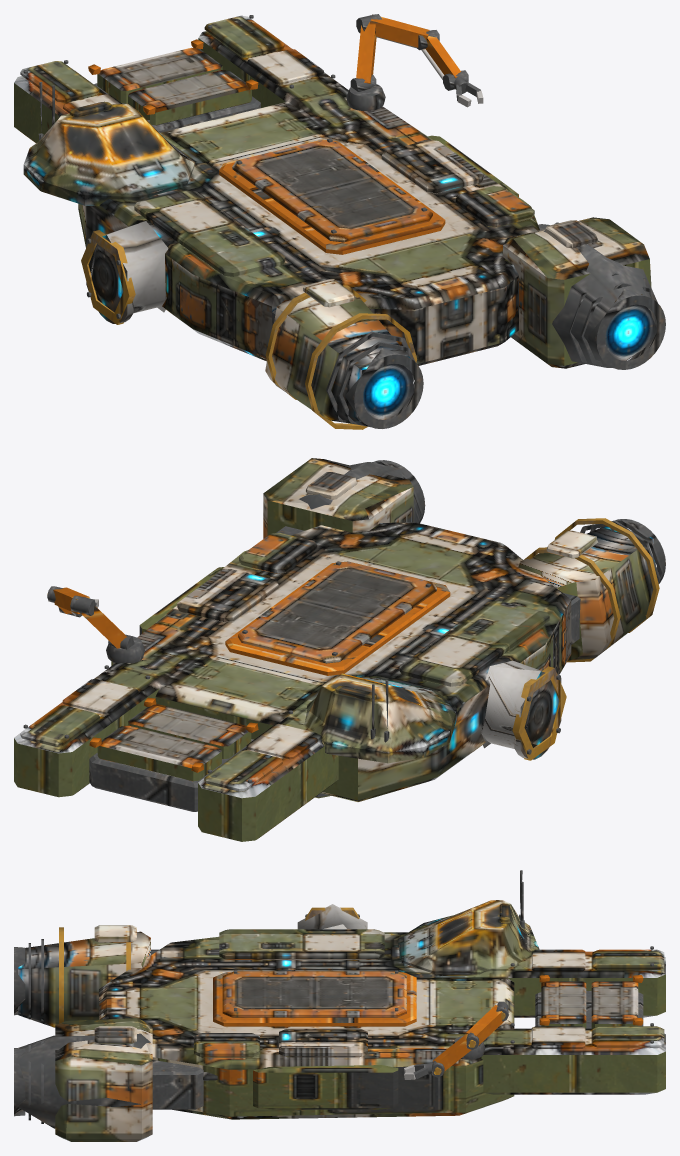
The model's file is second-wind-lod2.glb.
3 views of the same model, one above another, from view 1: azimuth 30°, elevation 25°; view 2: azimuth 150°, elevation 25°; view 3: azimuth 270°, elevation 25° (orthographic). The views are drawn at different scales.
Parts seen in each view (by area): view 1: Static / Second Wind / painted hull and fittings, Static / Ventral / Second Wind; view 2: Static / Second Wind / painted hull and fittings, Static / Ventral / Second Wind; view 3: Static / Second Wind / painted hull and fittings, Static / Ventral / Second Wind.
Part boxes in pixels (x1,y1,x2,y2): Static / Second Wind / painted hull and fittings: [14, 14, 665, 429]; Static / Ventral / Second Wind: [20, 56, 595, 425]; Static / Second Wind / painted hull and fittings: [14, 458, 665, 841]; Static / Ventral / Second Wind: [24, 493, 642, 838]; Static / Second Wind / painted hull and fittings: [14, 870, 665, 1138]; Static / Ventral / Second Wind: [18, 942, 659, 1141].
Size of the model in its own units: 12.79 by 4.63 by 19.82.
Materials: 2 (2 with a texture image).
